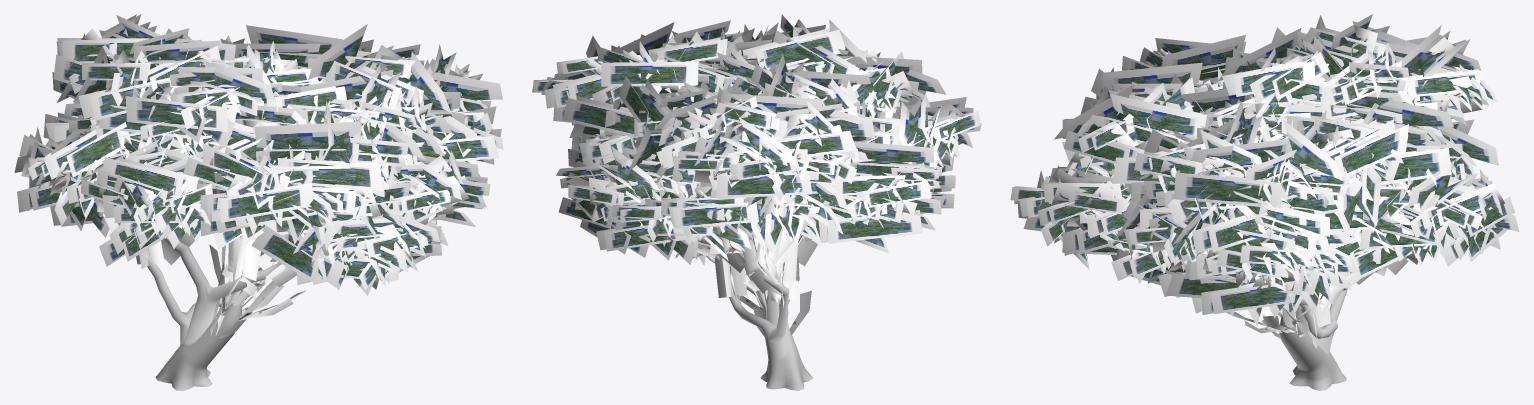
File: Type_1_6.fbx
The picture shows the model from 3 angles, left to right: view 1: azimuth 30°, elevation 25°; view 2: azimuth 150°, elevation 25°; view 3: azimuth 270°, elevation 25°; orthographic projection. The views are drawn at different scales.
Parts seen in each view (by area): view 1: Type_1_6; view 2: Type_1_6; view 3: Type_1_6.
Part boxes in pixels (<box>): Type_1_6: <box>14,14,503,390</box>; Type_1_6: <box>532,14,981,390</box>; Type_1_6: <box>1010,14,1519,390</box>.
Size of the model in its own units: 24.96 by 23.67 by 16.83.
